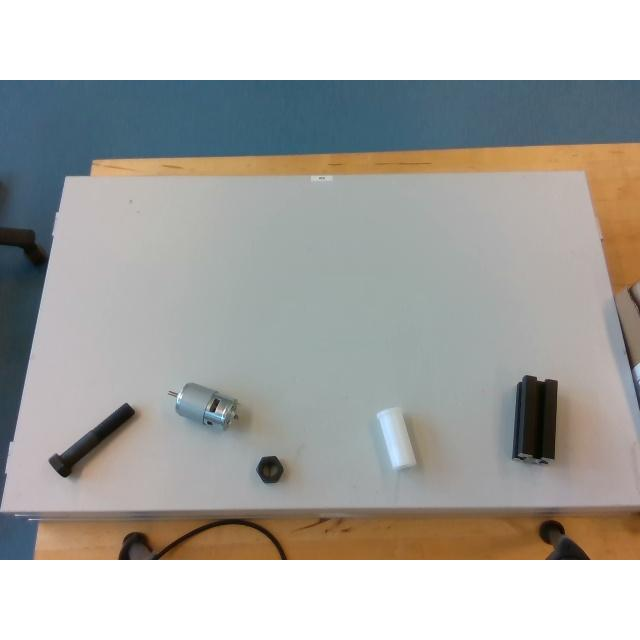M20: (256, 456, 284, 484)
M20_100: (49, 403, 134, 477)
Motor2: (168, 382, 240, 431)
S40_40_B: (513, 374, 559, 466)
Spacer: (376, 407, 416, 469)
